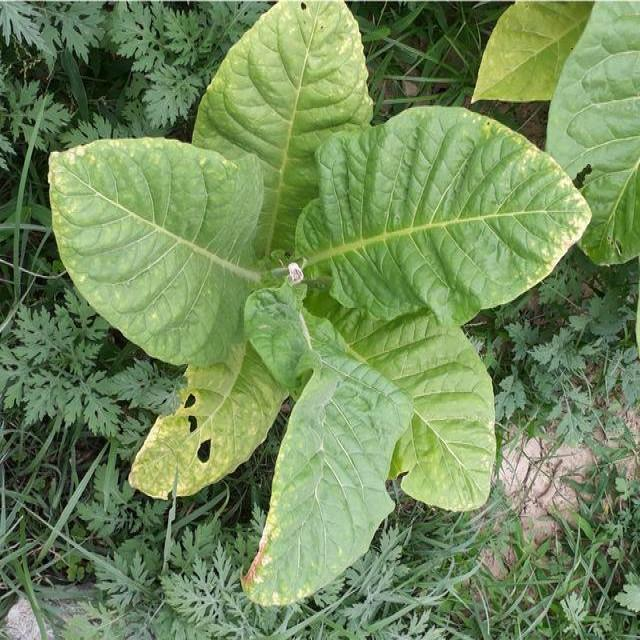crop: (43, 0, 587, 610)
